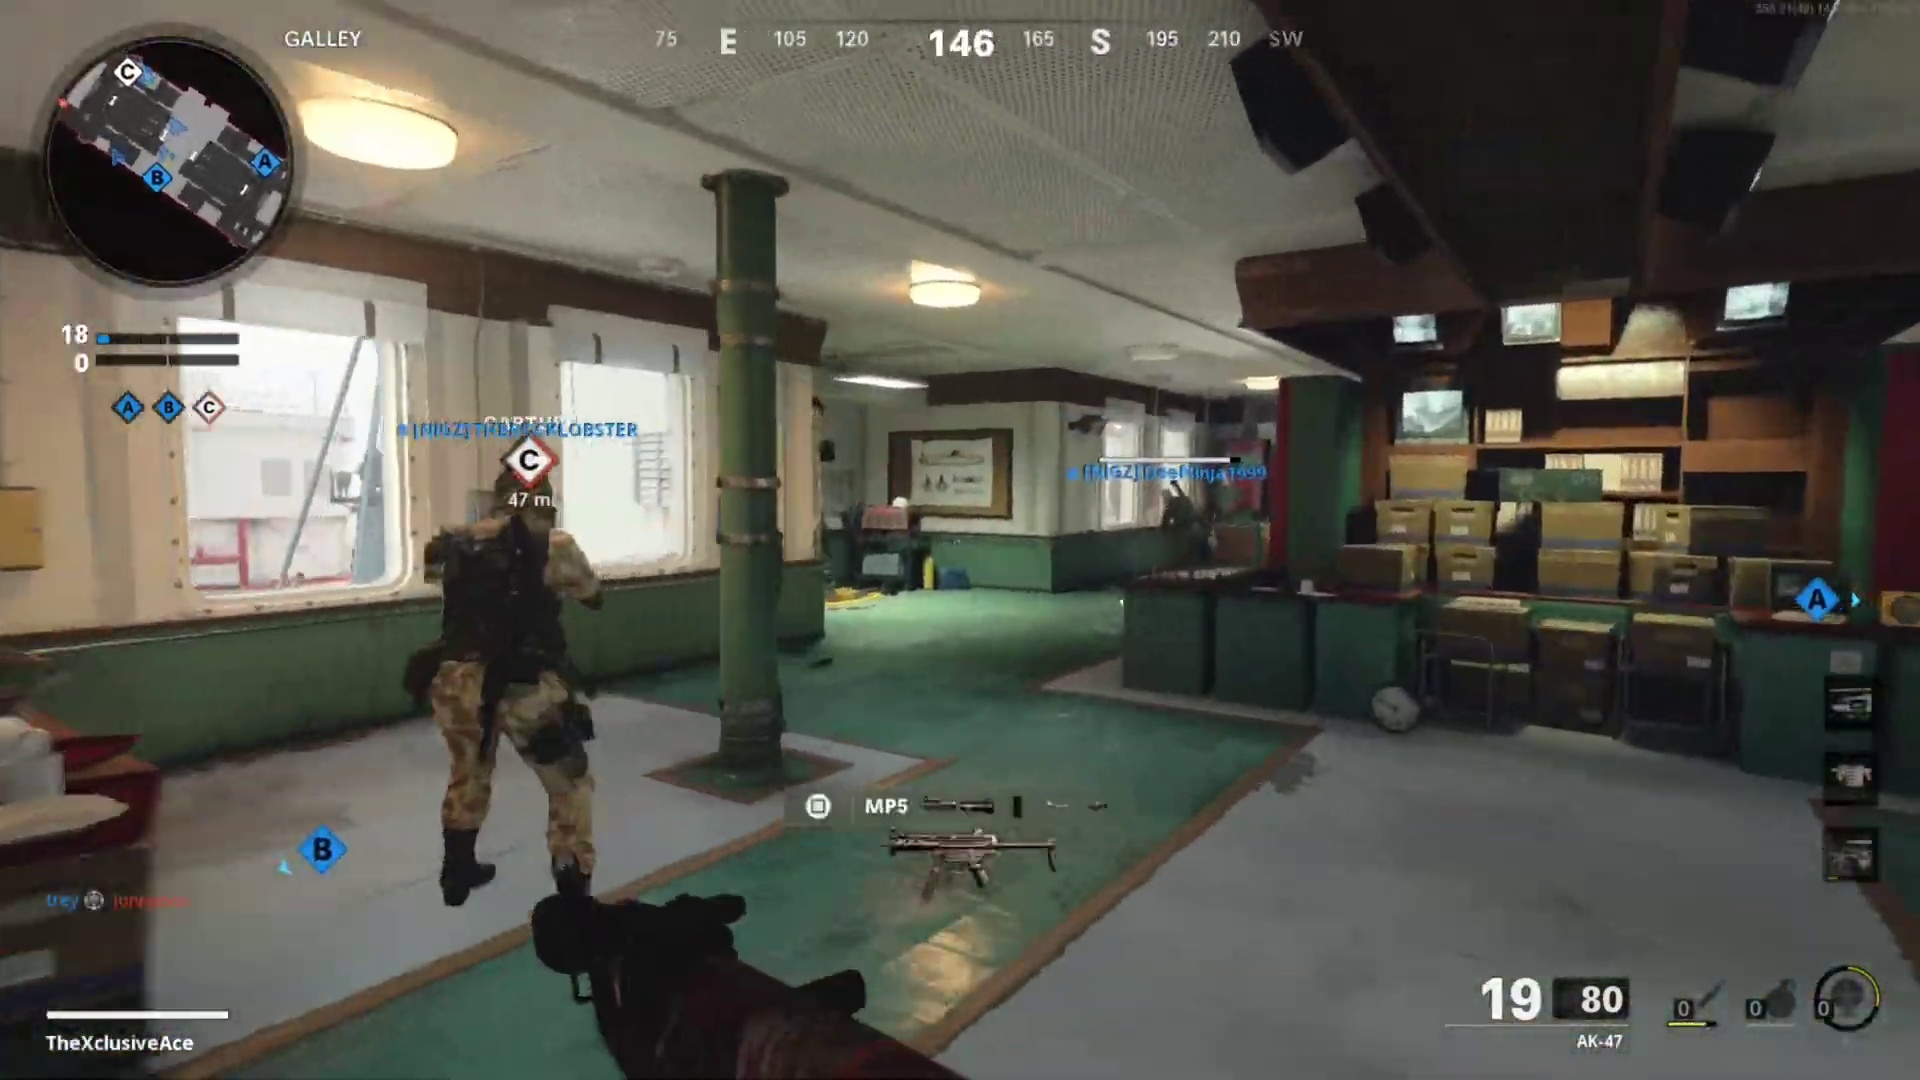person: (413, 410, 605, 921), (1163, 481, 1209, 568)
